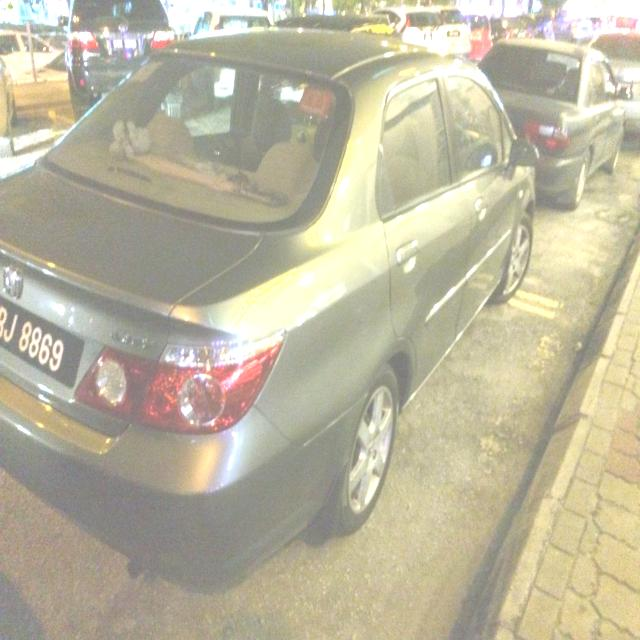Car: (0, 28, 539, 586)
